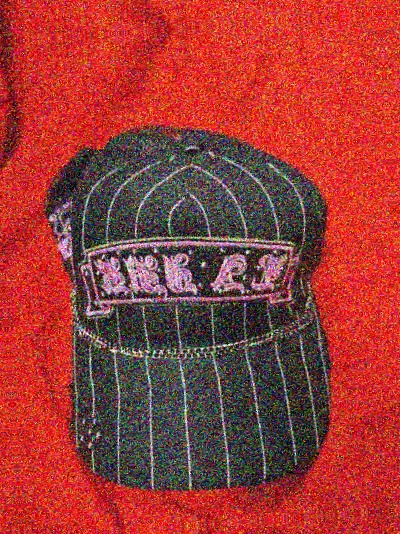Hat: (35, 90, 377, 505)
